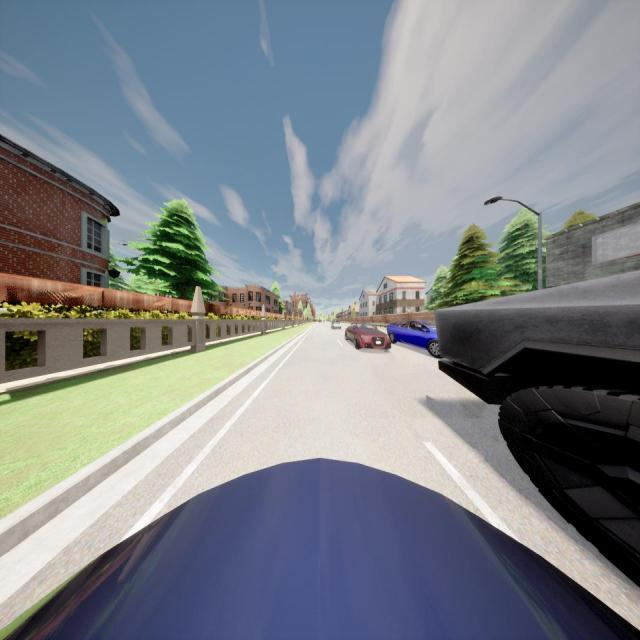Vehicle: (0, 455, 640, 640), (434, 265, 640, 596), (387, 319, 441, 358), (345, 322, 391, 349), (331, 320, 341, 329), (318, 319, 322, 323)
